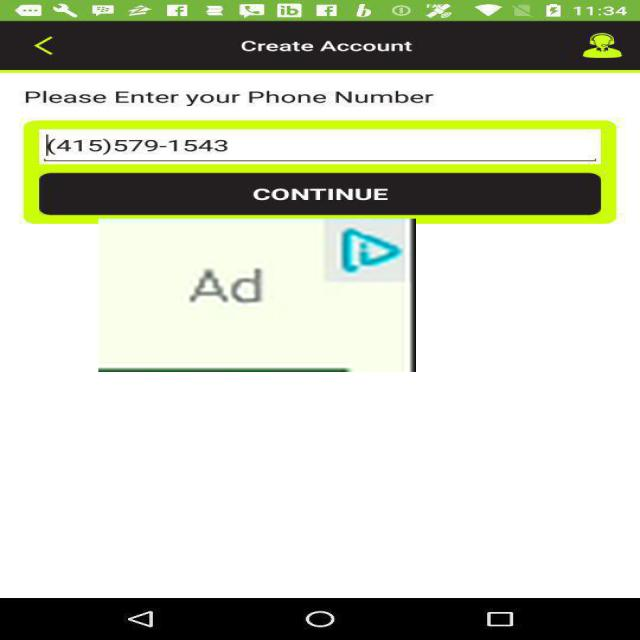sneaking: (98, 219, 416, 372)
